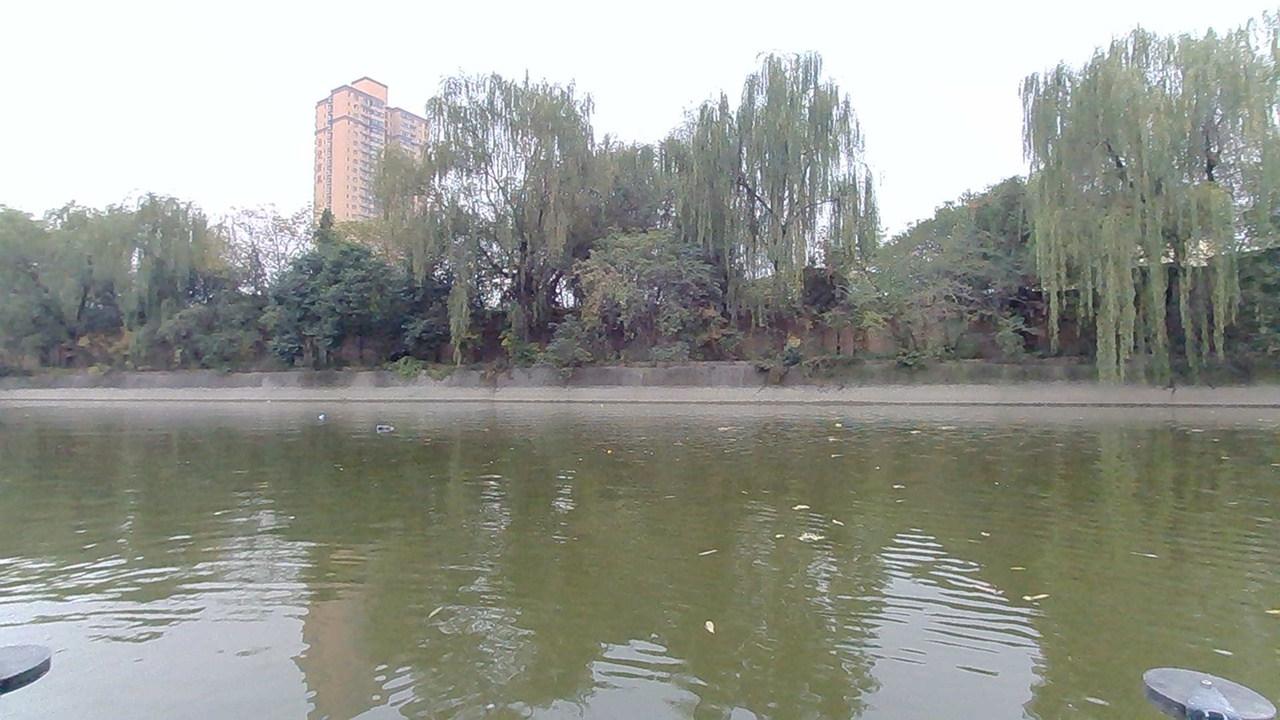bottle: (367, 414, 404, 438)
